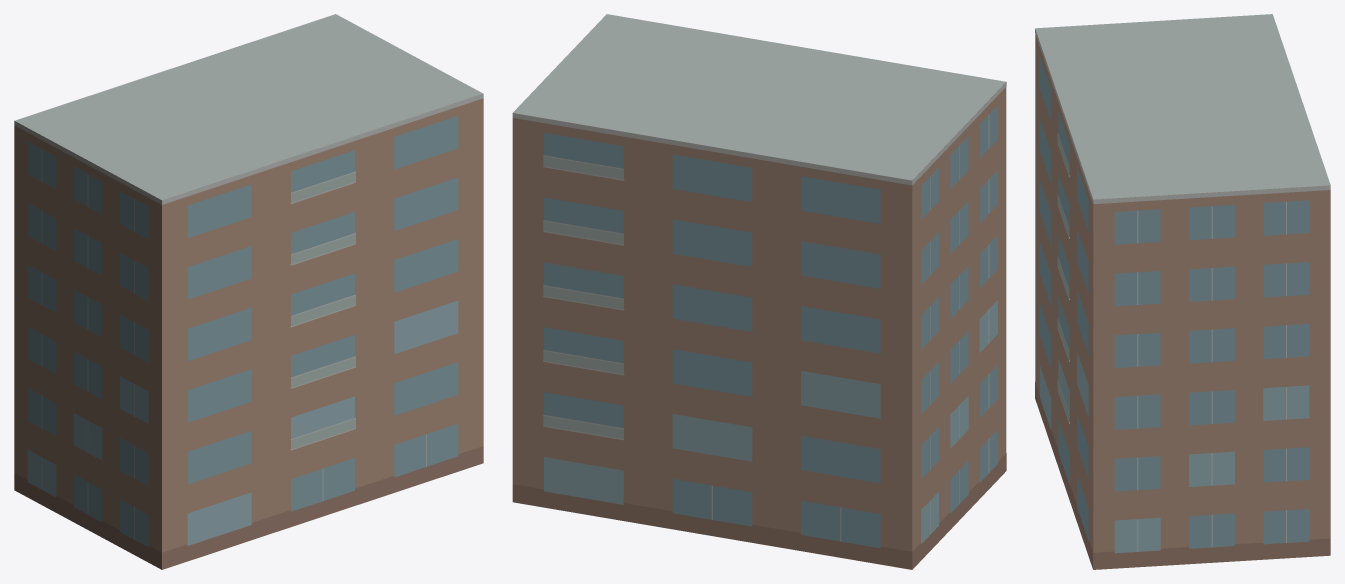
The model's file is survey-upis-33035793.glb.
The picture shows the model from 3 angles, left to right: view 1: azimuth 30°, elevation 25°; view 2: azimuth 150°, elevation 25°; view 3: azimuth 270°, elevation 25°; orthographic projection. The views are drawn at different scales.
Visible parts, largest first — view 1: survey-upis-33035793.tmp; view 2: survey-upis-33035793.tmp; view 3: survey-upis-33035793.tmp.
Part boxes in pixels (x1,y1,x2,y2): survey-upis-33035793.tmp: [14, 14, 483, 569]; survey-upis-33035793.tmp: [512, 14, 1006, 569]; survey-upis-33035793.tmp: [1035, 14, 1330, 569].
Bounding box in the file's own units: 21.08 × 19.6 × 14.19.
